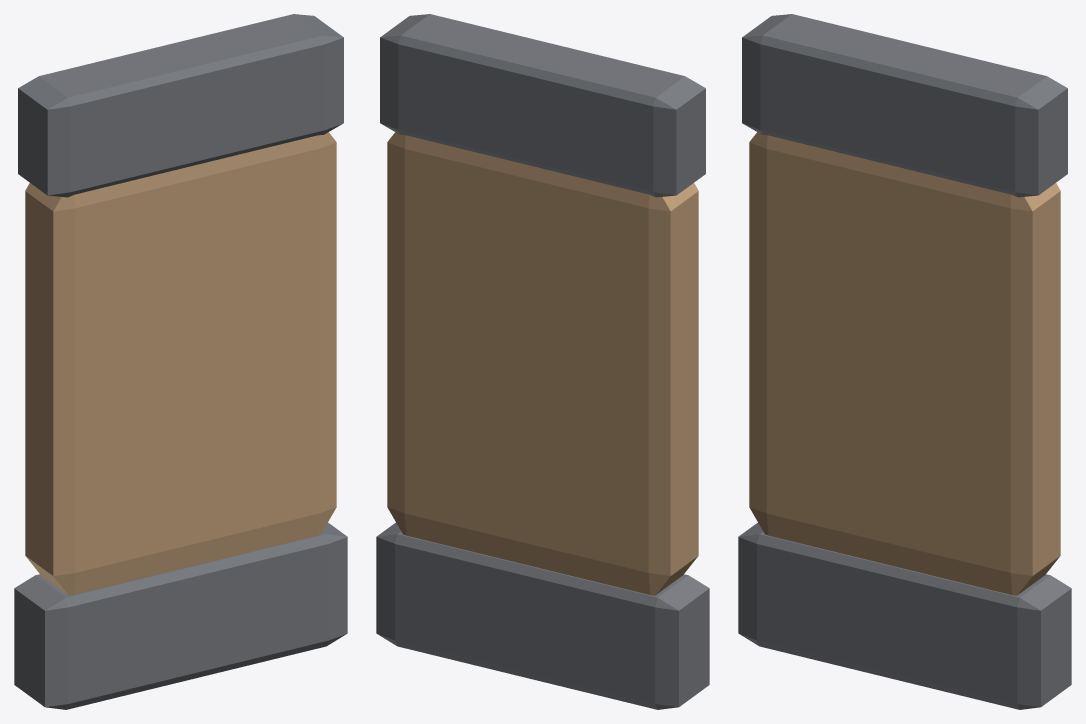
The model's file is b12_arched_wood_entry.glb.
The picture shows the model from 3 angles, left to right: view 1: azimuth 30°, elevation 25°; view 2: azimuth 150°, elevation 25°; view 3: azimuth 330°, elevation 25°; orthographic projection.
Parts seen in each view (by area): view 1: b12_arched_wood_entry; view 2: b12_arched_wood_entry; view 3: b12_arched_wood_entry.
Boxes of the visible parts, left/top/right/bottom form: b12_arched_wood_entry: left=14, top=14, right=347, bottom=709; b12_arched_wood_entry: left=376, top=14, right=709, bottom=709; b12_arched_wood_entry: left=738, top=14, right=1071, bottom=709.
Bounding box in the file's own units: 1.25 × 2.42 × 0.256.
